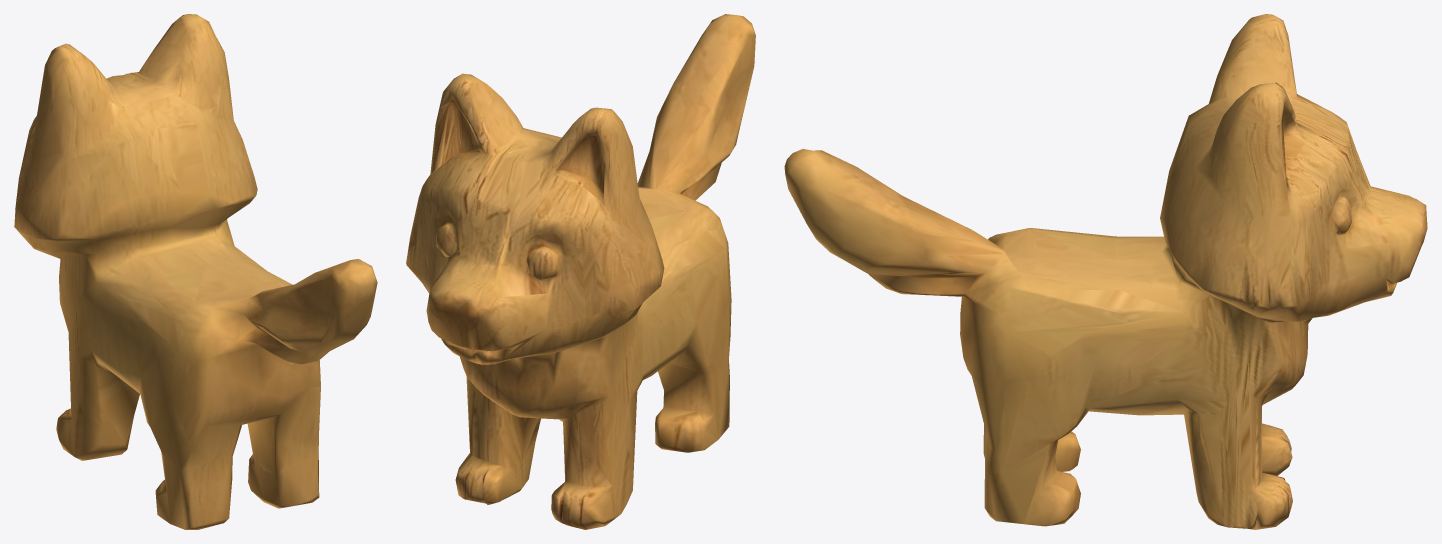
File: wolf.glb
3 renders of one model, left to right at view 1: azimuth 30°, elevation 25°; view 2: azimuth 150°, elevation 25°; view 3: azimuth 270°, elevation 25°, orthographic. The views are drawn at different scales.
Visible parts, largest first — view 1: animal_wolf; view 2: animal_wolf; view 3: animal_wolf.
Boxes of the visible parts, x1,y1,x2,y2 form: animal_wolf: (14,14,377,529); animal_wolf: (406,14,755,529); animal_wolf: (784,14,1427,529).
Size of the model in its own units: 0.0248 by 0.043 by 0.0566.
Materials: 1 (1 with a texture image).
